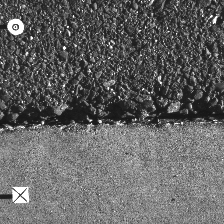circle: (7, 18, 24, 34)
crack: (1, 109, 223, 129)
square: (12, 187, 28, 203)
